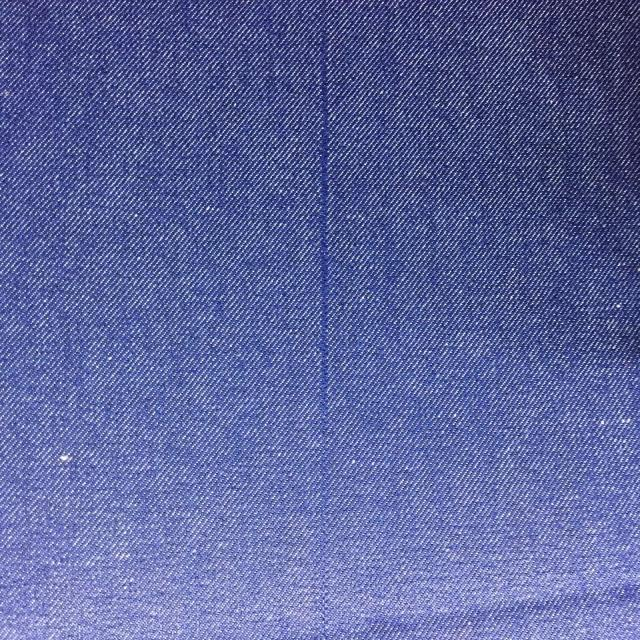Line: (315, 0, 330, 639)
